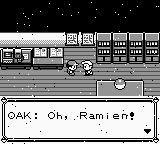leer: (33, 48, 63, 70), (1, 49, 31, 69), (65, 32, 94, 47)
main: (66, 61, 79, 75)
no-caminable: (0, 1, 159, 32), (97, 33, 159, 63), (1, 33, 64, 47), (97, 80, 144, 98)
npc: (82, 61, 94, 75)
poke-ball: (114, 78, 126, 90)
texto: (0, 97, 159, 143)
